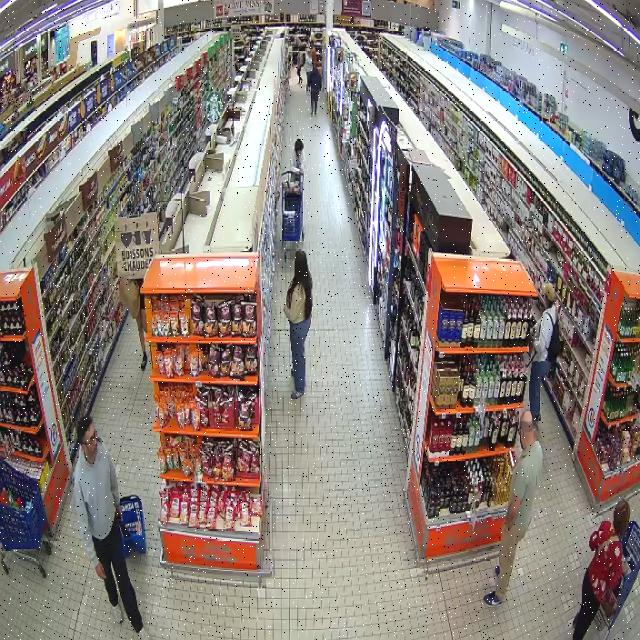article: (508, 449, 518, 468)
bags: (548, 320, 562, 362)
hands: (96, 563, 105, 579), (115, 504, 122, 521)
person: (74, 414, 149, 639), (484, 411, 542, 606), (573, 499, 629, 639), (529, 282, 560, 423), (284, 249, 312, 399), (290, 138, 305, 174)
